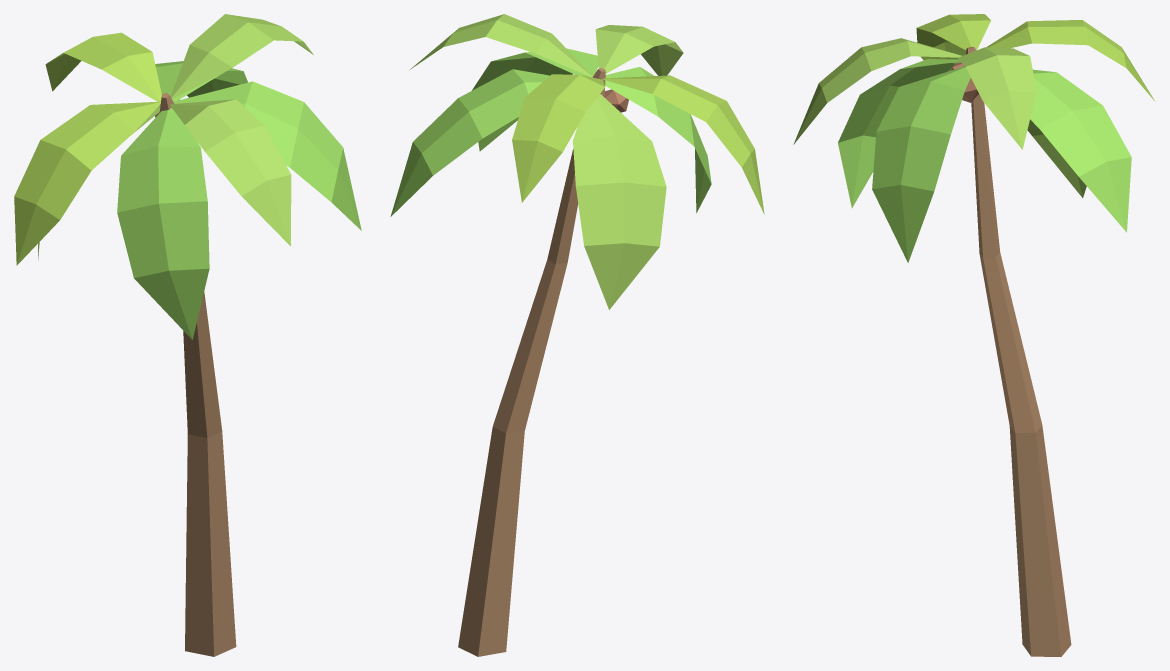
The model's file is Palm_Tree_Coconut_m_06_LOD.fbx.
The picture shows the model from 3 angles, left to right: view 1: azimuth 30°, elevation 25°; view 2: azimuth 150°, elevation 25°; view 3: azimuth 270°, elevation 25°; orthographic projection. The views are drawn at different scales.
Parts seen in each view (by area): view 1: Palm_Tree_Coconut_m_06_LOD0; view 2: Palm_Tree_Coconut_m_06_LOD0; view 3: Palm_Tree_Coconut_m_06_LOD0.
Part boxes in pixels (<box>): Palm_Tree_Coconut_m_06_LOD0: <box>14,14,361,656</box>; Palm_Tree_Coconut_m_06_LOD0: <box>390,14,764,656</box>; Palm_Tree_Coconut_m_06_LOD0: <box>793,14,1154,656</box>.
Size of what is drawn, in the model's own units: 290 by 526 by 289.
